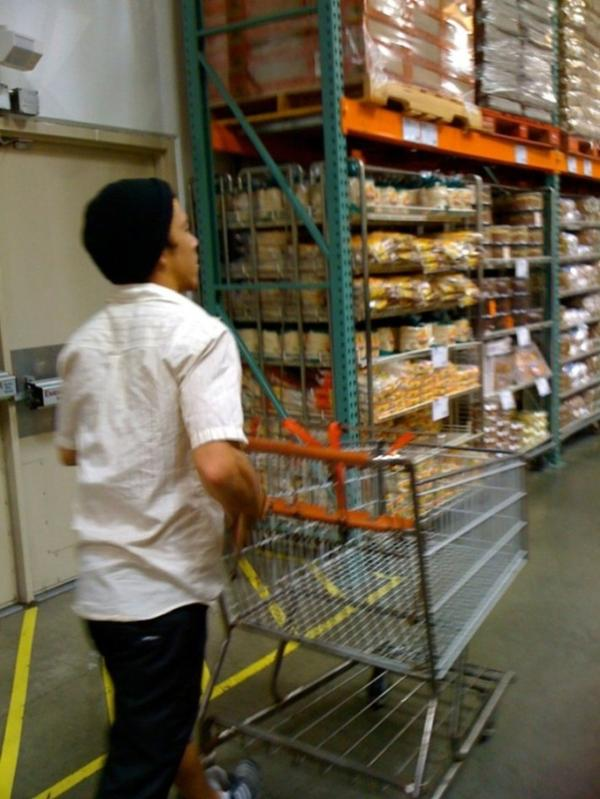person: (51, 177, 267, 794)
